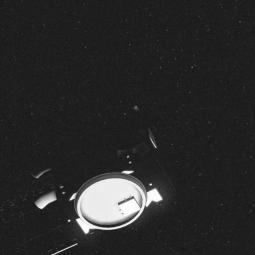proba_3_csc: (27, 105, 179, 255)
